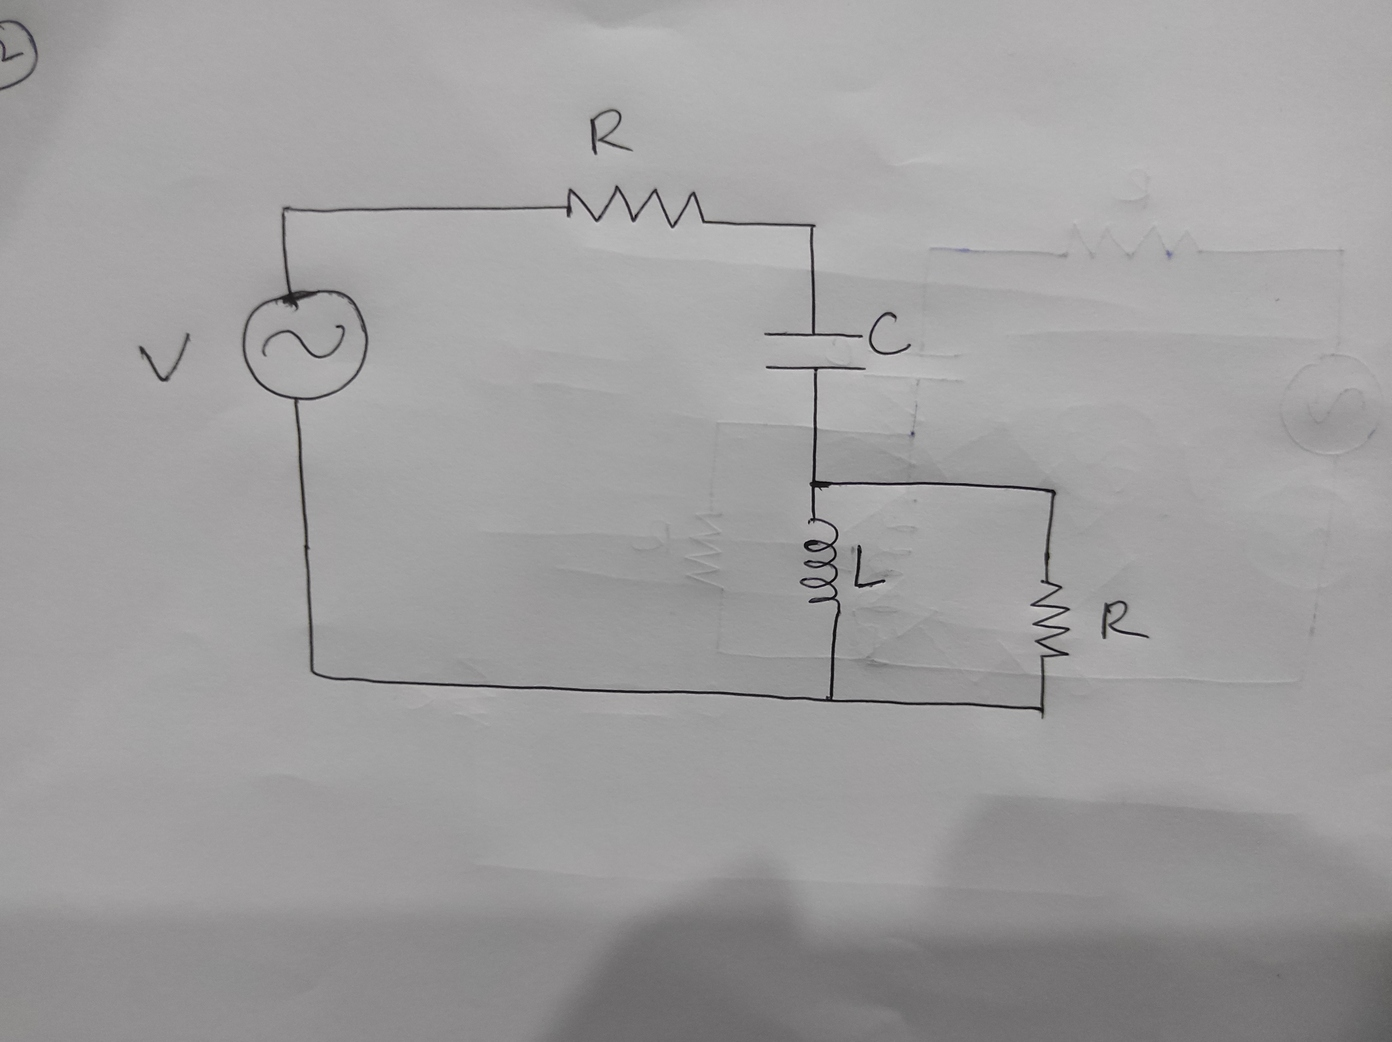capacitor.unpolarized: (759, 328, 868, 375)
inductor: (797, 516, 844, 612)
junction: (300, 657, 327, 686), (1026, 697, 1053, 722), (804, 470, 830, 496), (798, 215, 823, 239), (817, 688, 840, 710), (276, 202, 298, 220), (1045, 484, 1063, 501)
resistor: (557, 176, 716, 235), (1029, 570, 1074, 667)
text: (137, 329, 192, 386), (584, 106, 639, 159), (1099, 597, 1153, 646), (866, 309, 913, 357), (850, 541, 888, 591)
voltage.dc_ac: (233, 286, 372, 403)
